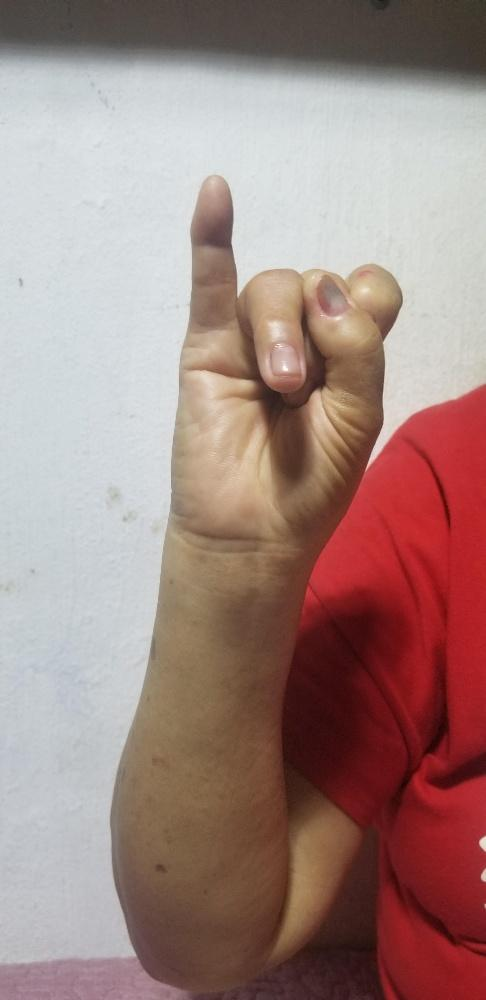i: (175, 171, 401, 530)
